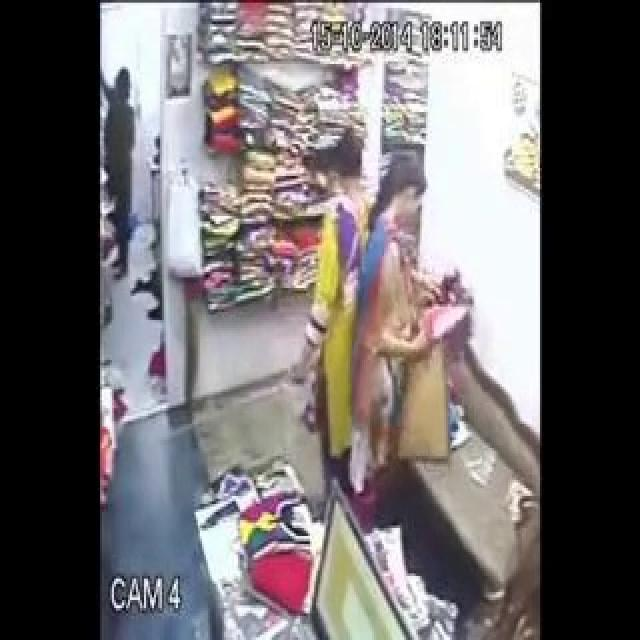Shoplifting: (364, 147, 468, 502)
